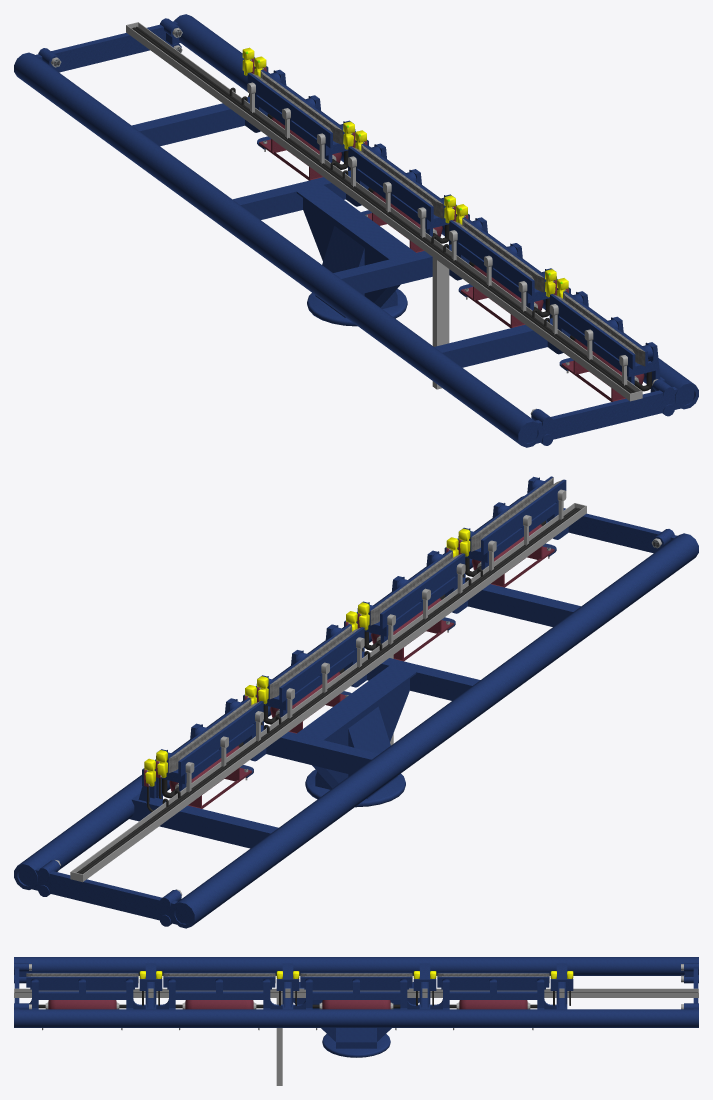
Rendered from Block Section Standard (mirrored).dae.
3 renders of one model, top to bottom at view 1: azimuth 30°, elevation 25°; view 2: azimuth 150°, elevation 25°; view 3: azimuth 270°, elevation 25°, orthographic. The views are drawn at different scales.
Parts seen in each view (by area): view 1: Track (×8), Mid_Detail (×9), High_Detail (×3), Clamps (×4); view 2: Track (×8), Mid_Detail (×9), High_Detail (×3), Clamps (×4); view 3: Track (×8), Mid_Detail (×14), Clamps (×4), High_Detail (×5).
Part boxes in pixels (x1,y1,x2,y2): Track (×8): (14, 14, 698, 447); Mid_Detail (×9): (126, 22, 664, 401); High_Detail (×3): (131, 26, 635, 393); Clamps (×4): (260, 71, 645, 366); Track (×8): (14, 496, 698, 928); Mid_Detail (×9): (70, 476, 586, 882); High_Detail (×3): (77, 507, 581, 874); Clamps (×4): (168, 477, 553, 772); Track (×8): (14, 957, 698, 1057); Mid_Detail (×14): (14, 972, 698, 1085); Clamps (×4): (26, 976, 549, 987); High_Detail (×5): (14, 979, 698, 1007).
Size of the model in its own units: 40.76 by 197 by 37.68.
42 materials, 36 textured.
